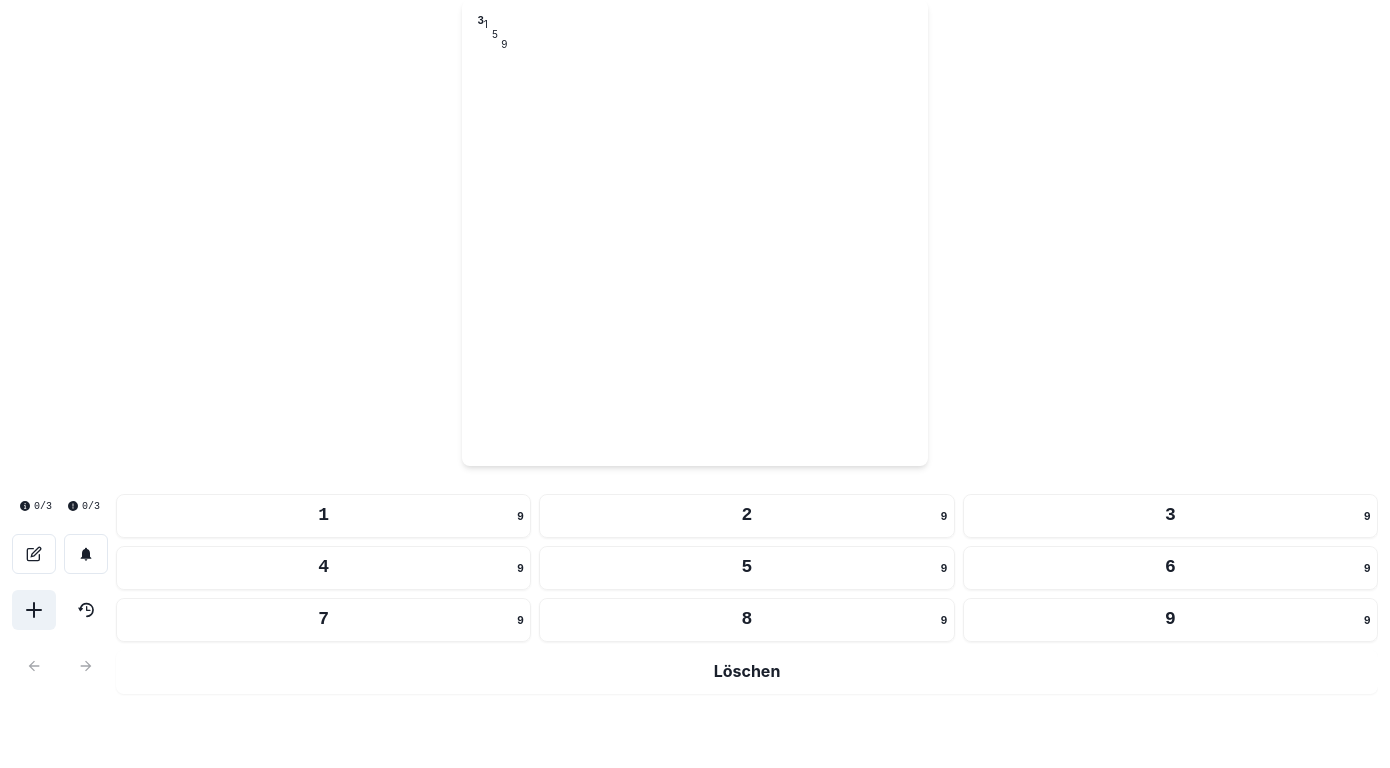
Scenario: Hint-Overlay & Notiz-Koexistenz (#7) › Nach Deaktivieren des Hint-Modus erscheinen die Notizen unverändert wieder
Press the mouse on the cell with test id "cell-0-0" at {"x": 495, "y": 33}, box [470, 8, 520, 58]
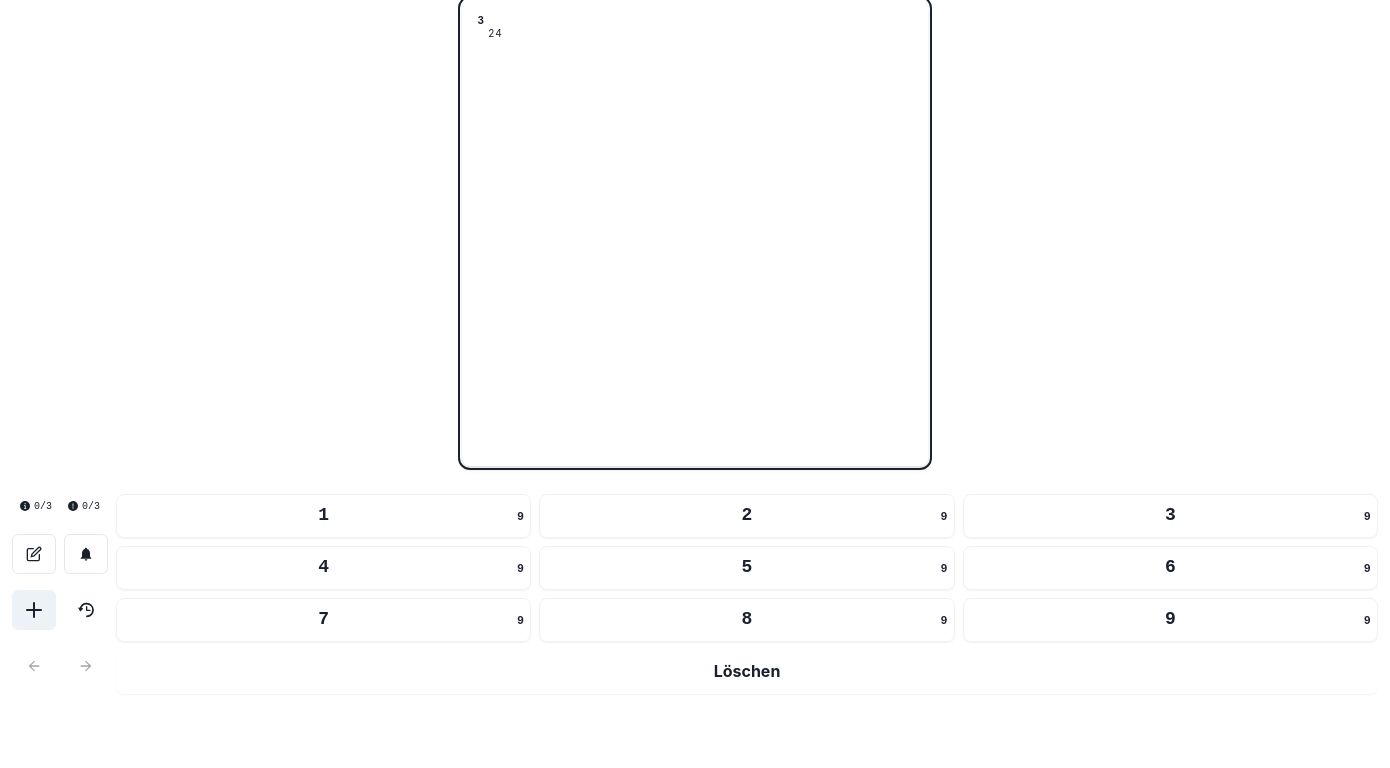
Expected: the element with test id "notes-0-0" is gone
Press F5
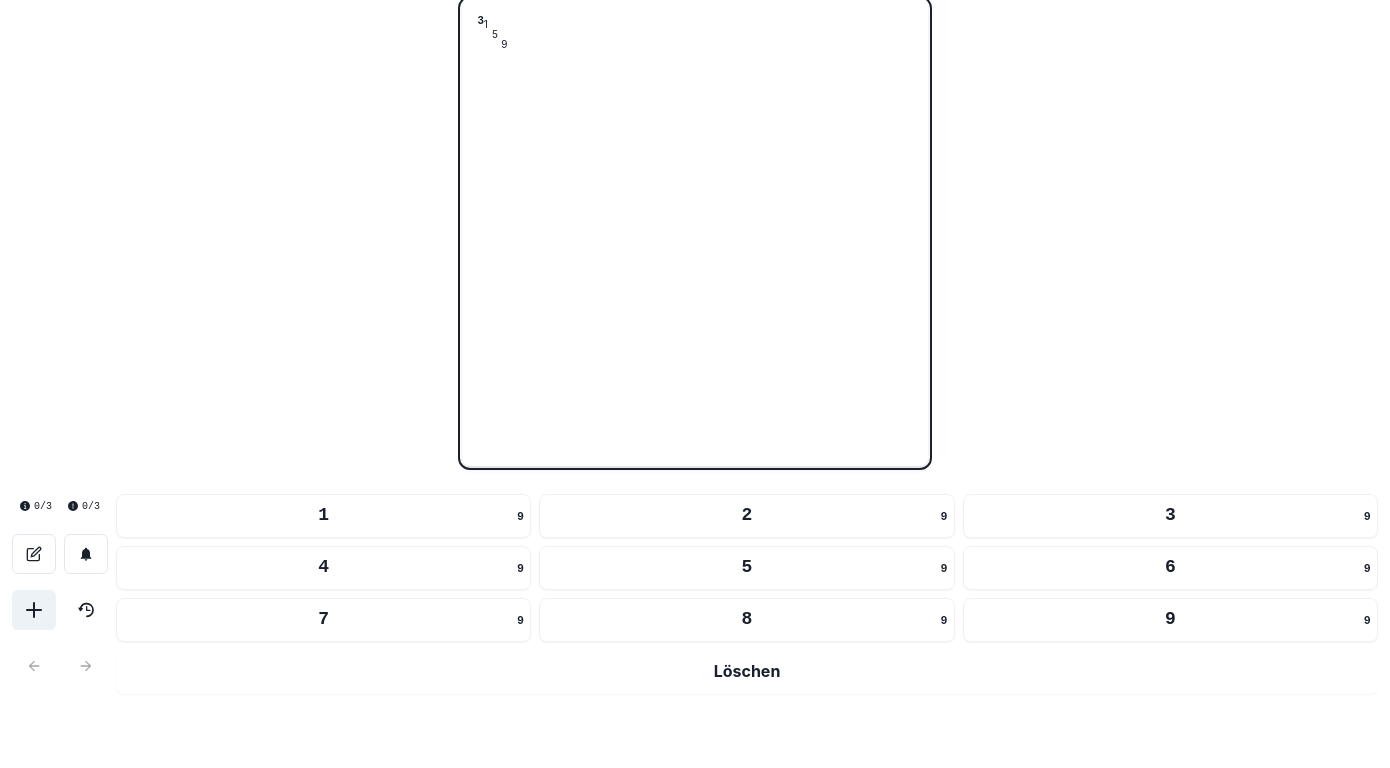
Expected: the text "1" is shown, [484, 18, 488, 30]
Expected: the text "5" is shown, [492, 28, 498, 40]
Expected: the 1st text "9" is shown, [501, 38, 507, 50]
